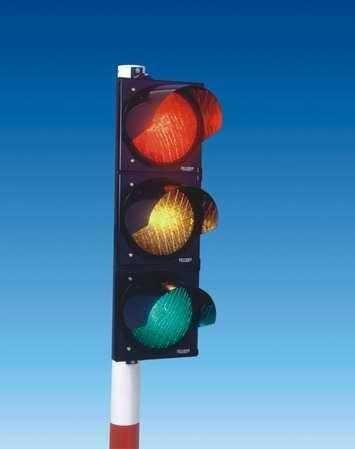5: (125, 78, 209, 170)
9: (124, 182, 214, 270)
red traffic light: (119, 276, 212, 362)
